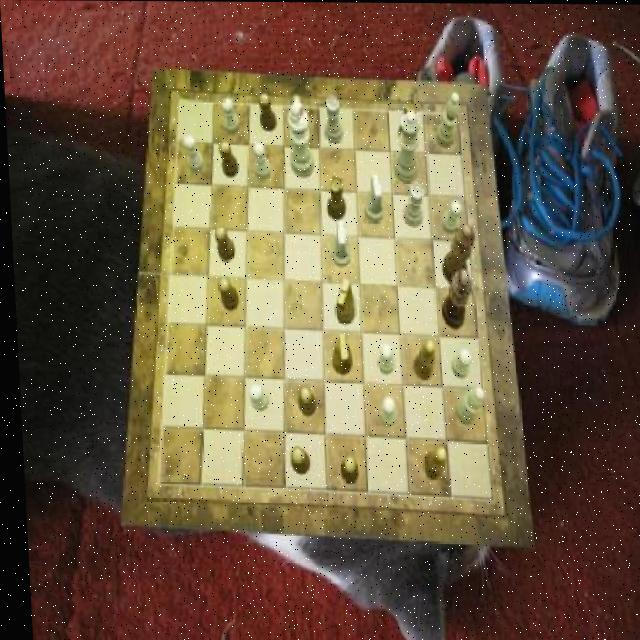bishop: (409, 341, 434, 381), (417, 446, 442, 480)
black-bishop: (437, 268, 472, 329)
black-king: (331, 279, 353, 324), (327, 333, 349, 374)
black-knight: (212, 226, 234, 262), (217, 140, 237, 178), (216, 277, 237, 311), (258, 92, 276, 131), (288, 94, 306, 132), (294, 386, 313, 417), (286, 448, 307, 475), (336, 456, 354, 483)
black-pawn: (438, 221, 476, 285)
black-queen: (396, 100, 418, 147), (324, 174, 345, 220)
black-rook: (434, 92, 461, 148), (450, 386, 481, 423)
white-bishop: (286, 100, 313, 178)
white-king: (361, 173, 383, 222), (327, 220, 349, 266)
white-knight: (437, 199, 461, 234), (182, 135, 204, 173), (252, 141, 270, 180), (221, 97, 239, 134), (448, 347, 469, 378), (375, 396, 394, 427), (374, 342, 392, 374), (245, 385, 266, 412)
white-pawn: (391, 110, 423, 184)
white-queen: (400, 181, 424, 226), (322, 96, 343, 143)
